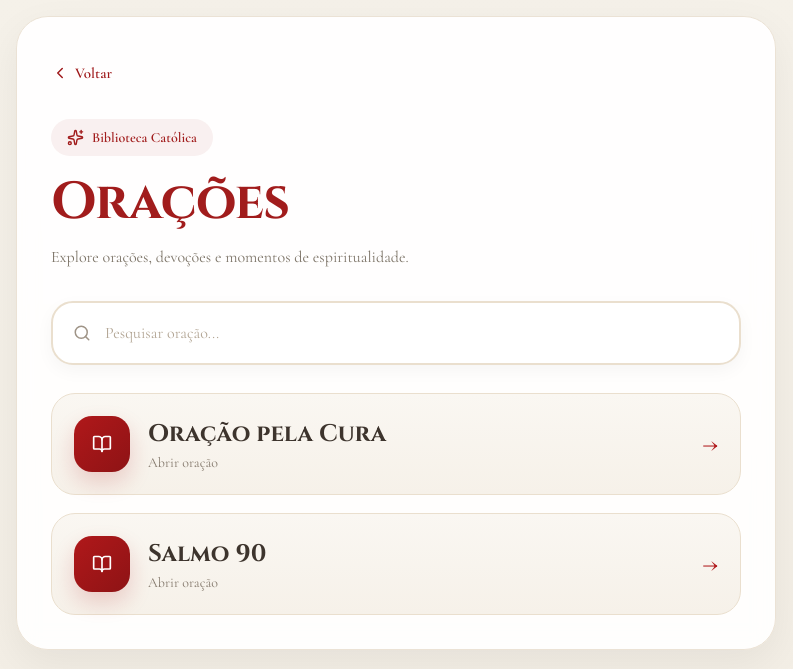
Scenario: CategoryPrayers › shows an empty state when nothing matches
This screenshot has width=793, height=669.
Expected: the text "Oração pela Cura" is shown, [148, 418, 386, 450]
Type "zzz" into the field with placeholder "Pesquisar oração...". click: [412, 333]
box: [105, 303, 719, 363]
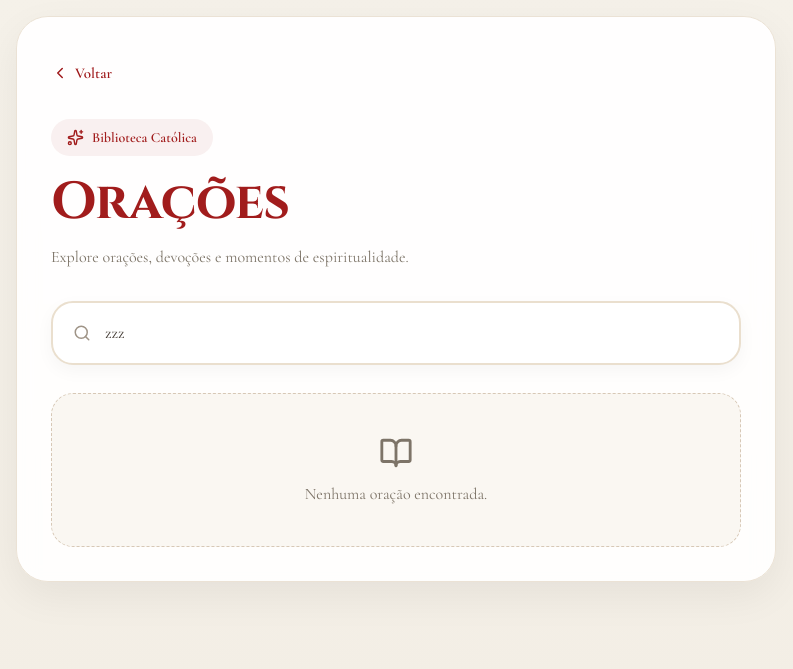
Result: the text "Nenhuma oração encontrada." is shown at [305, 484, 487, 504]
